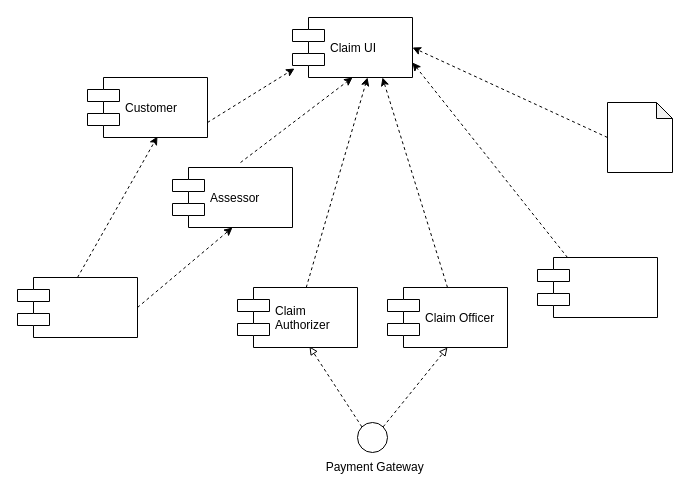
Some shapes in this 690 by 495 pixel diagram are drawn without their labels. Here are the shapes that lost their labels. From the top down, the centre of each, then its label:
At (639,137): "Documents".
At (77,307): "JReport".
At (597,287): "Admin".
